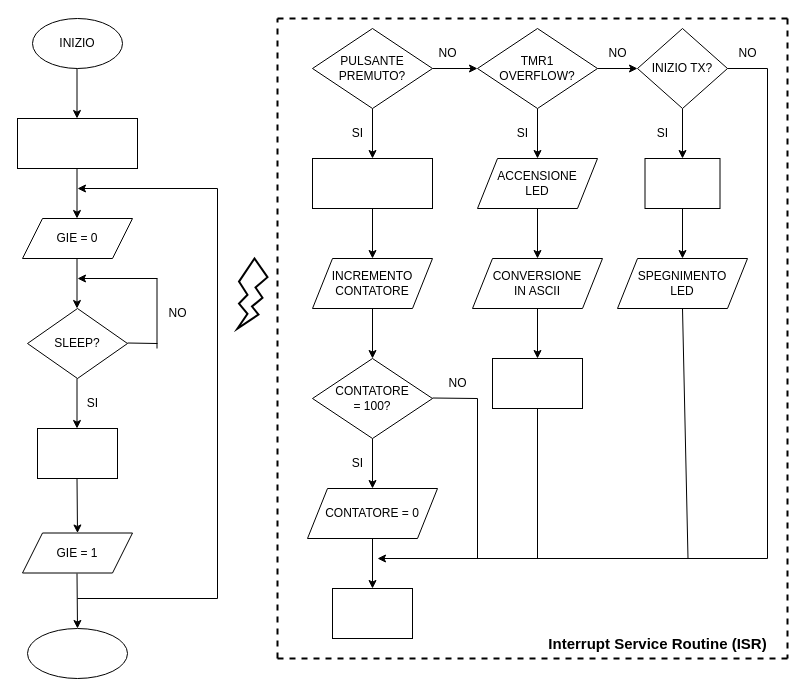
The diagram is 807 pixels wide and 696 high, and some of its shapes have lost their labels. Each missing label, with the box of its shape:
ATTESA: (644, 158, 720, 208)
ATTESA DEBOUNCING: (312, 158, 432, 208)
FINE: (26, 628, 128, 678)
FINE IRQ: (332, 588, 412, 638)
INIZIALIZZAZIONE: (16, 118, 138, 168)
INIZIO TX: (492, 358, 582, 408)
SLEEP: (36, 428, 118, 478)
